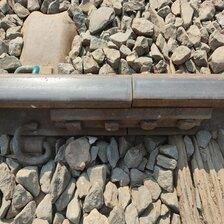railway-gap: (106, 67, 159, 114), (121, 128, 133, 137)
